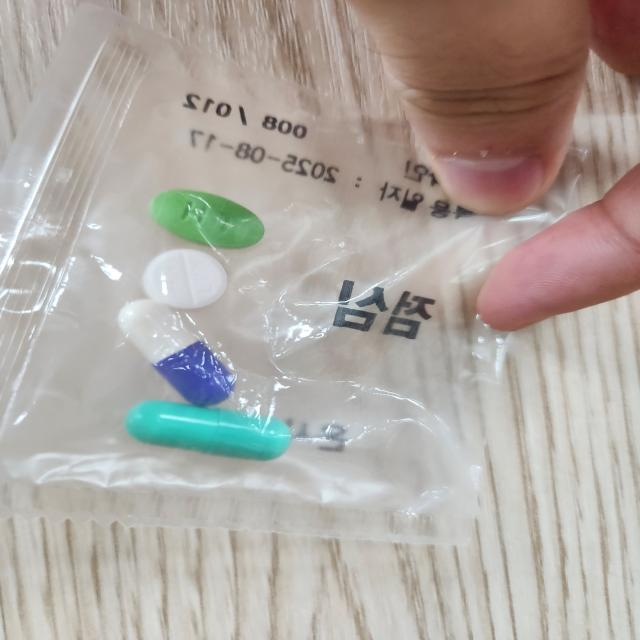러키펜정: (140, 248, 231, 314)
씨엠지세파클러캡슐: (118, 301, 238, 409)
에르도캡슐: (124, 401, 293, 464)
휴티렌정: (150, 190, 266, 252)
